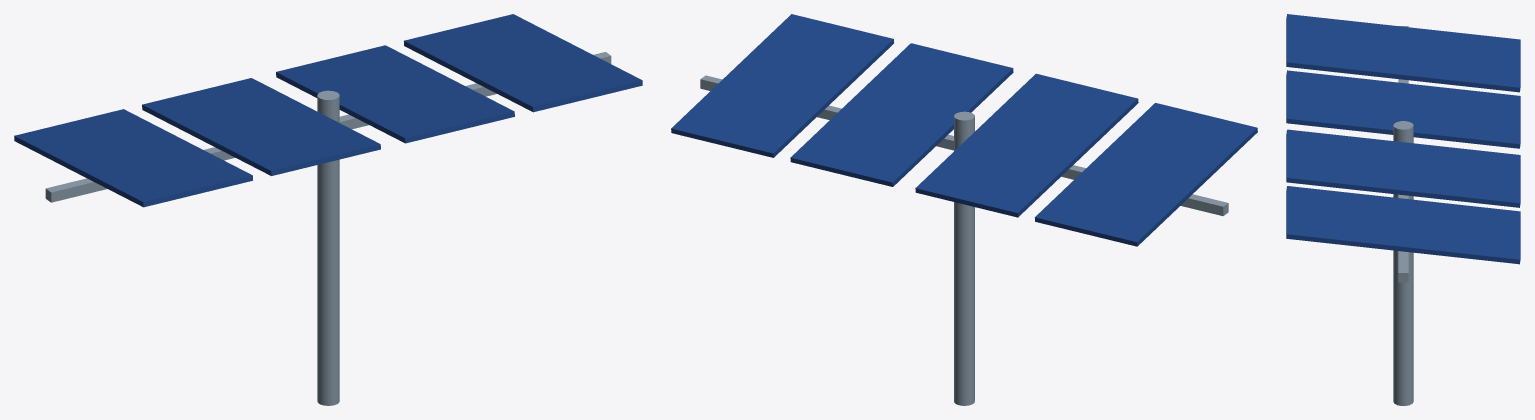
Rendered from trinatracker-vanguard-1p.glb.
3 views of the same model, side by side, from view 1: azimuth 30°, elevation 25°; view 2: azimuth 150°, elevation 25°; view 3: azimuth 270°, elevation 25° (orthographic). The views are drawn at different scales.
Size of the model in its own units: 4.6 by 2.41 by 1.84.
